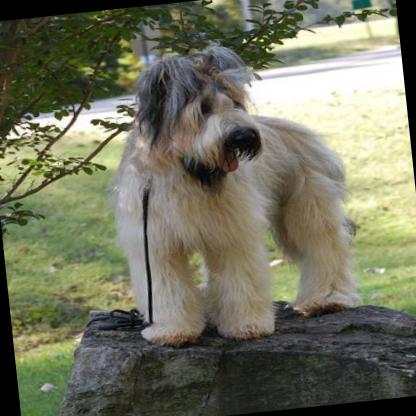briard: (95, 33, 367, 354)
